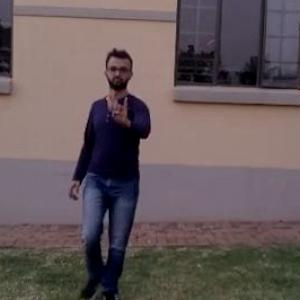takeoff-hand: (106, 89, 133, 131)
